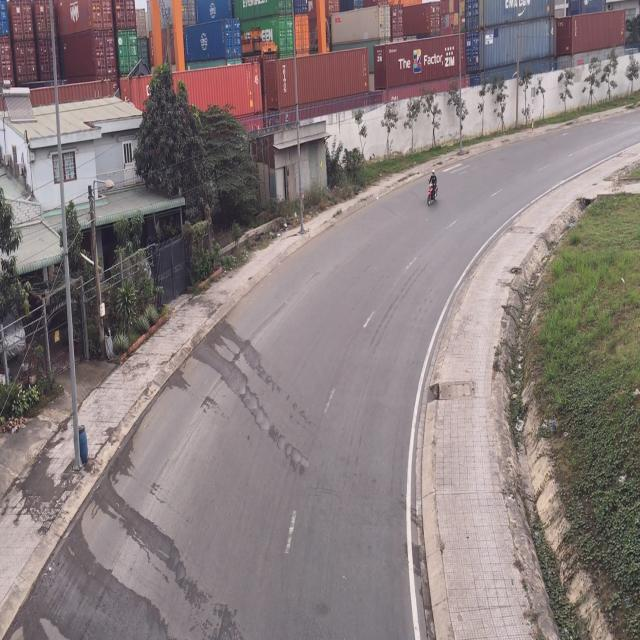motorbike: (426, 166, 440, 208)
